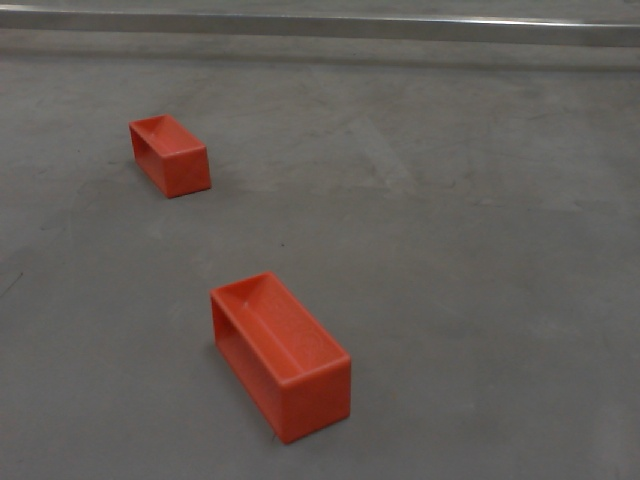RedSample: (209, 268, 354, 448), (125, 112, 216, 202)
